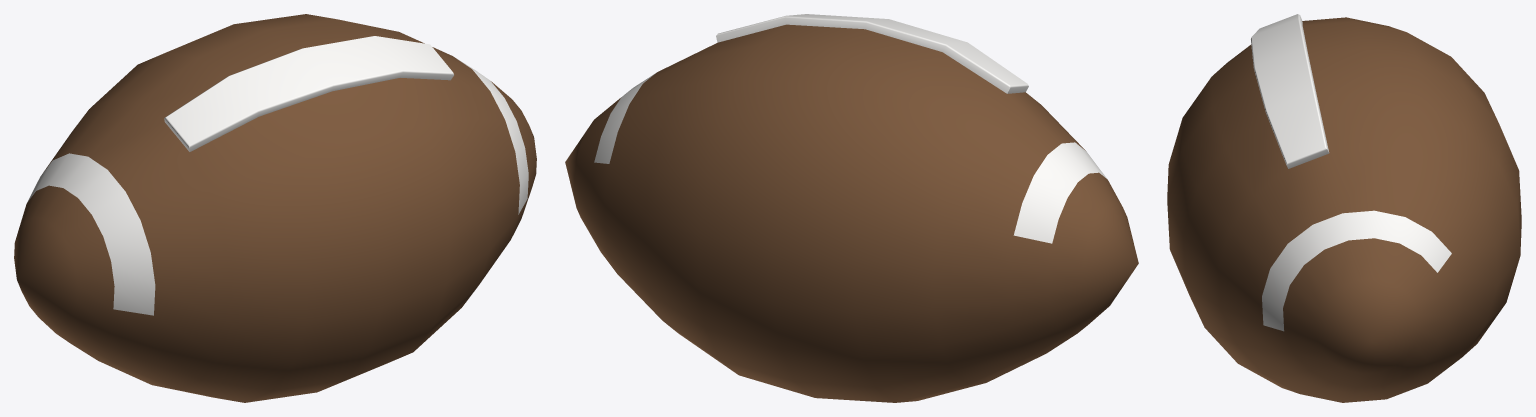
File: Ball_2.glb
3 views of the same model, side by side, from view 1: azimuth 30°, elevation 25°; view 2: azimuth 150°, elevation 25°; view 3: azimuth 270°, elevation 25° (orthographic). The views are drawn at different scales.
Visible parts, largest first — view 1: Ball_2; view 2: Ball_2; view 3: Ball_2.
Part boxes in pixels (x1=…): Ball_2: x1=14, y1=14, x2=536, y2=402; Ball_2: x1=565, y1=14, x2=1138, y2=402; Ball_2: x1=1167, y1=14, x2=1521, y2=402.
Size of the model in its own units: 0.4982 by 0.3009 by 0.2965.
1 material, 1 textured.
